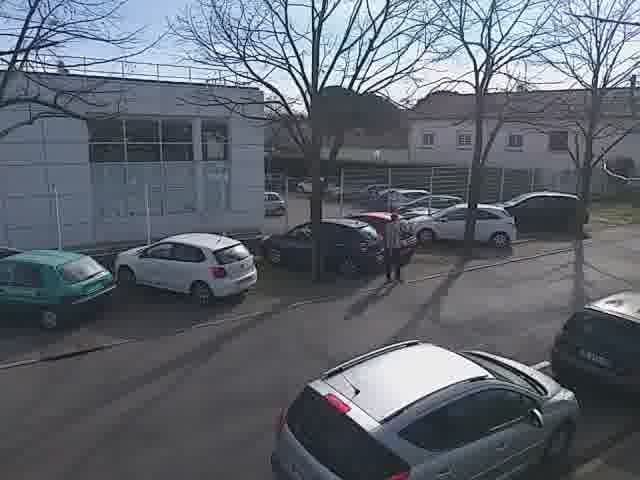persona: (372, 206, 410, 291)
